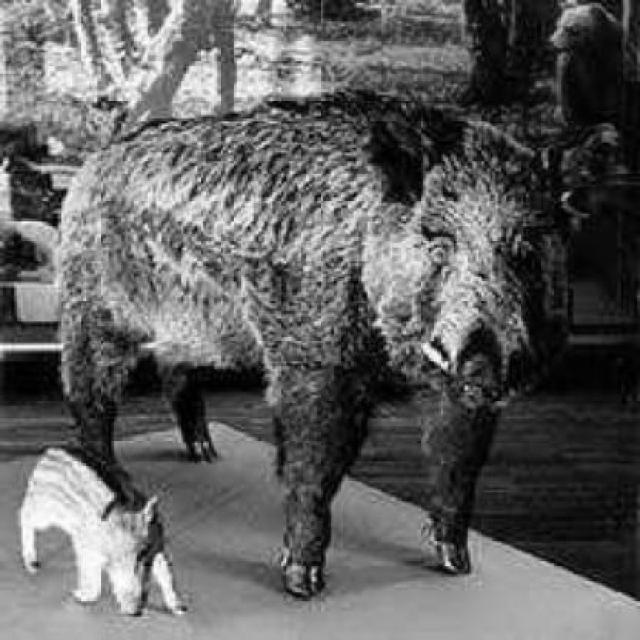Boar: (111, 52, 626, 536), (22, 426, 190, 617)
